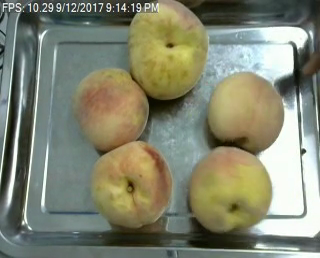Peach: (126, 0, 206, 100), (189, 145, 272, 233), (91, 140, 172, 229), (71, 67, 148, 152), (207, 71, 285, 152)
